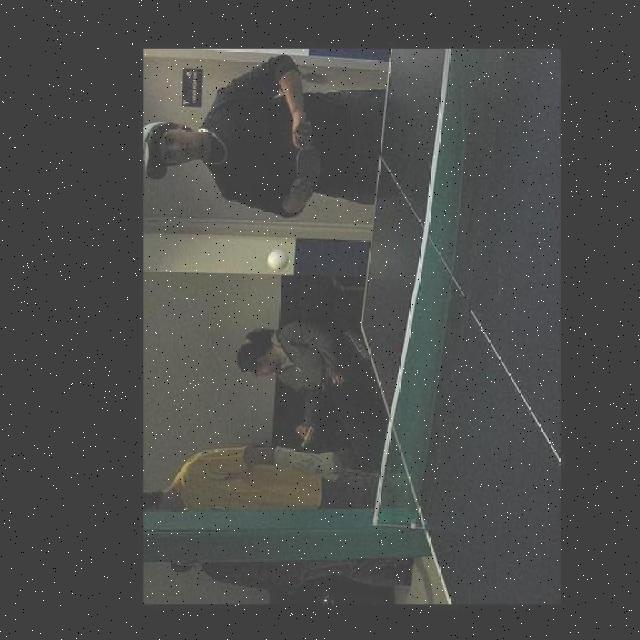ping-pong-ball: (268, 248, 289, 270)
